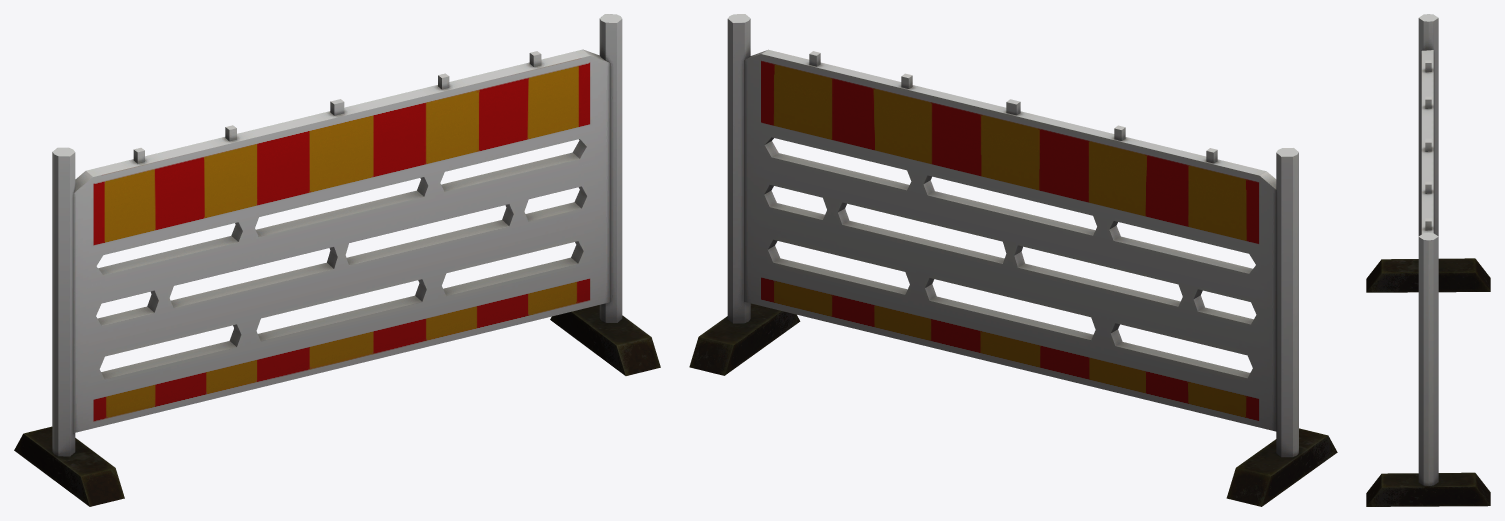
The model's file is SM_Fence.FBX.
The picture shows the model from 3 angles, left to right: view 1: azimuth 30°, elevation 25°; view 2: azimuth 150°, elevation 25°; view 3: azimuth 270°, elevation 25°; orthographic projection. The views are drawn at different scales.
Parts seen in each view (by area): view 1: SM_Fence; view 2: SM_Fence; view 3: SM_Fence.
Part boxes in pixels (x1,y1,x2,y2): SM_Fence: (14, 14, 660, 506); SM_Fence: (689, 14, 1337, 506); SM_Fence: (1366, 14, 1490, 506).
Size of the model in its own units: 217 by 49.95 by 118.
